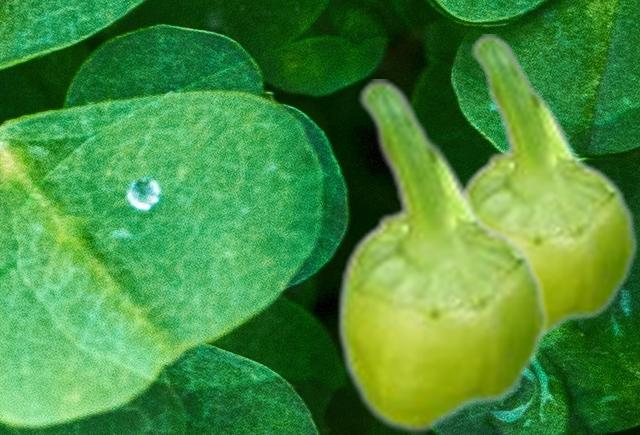bell_pepper: (335, 79, 549, 433), (462, 34, 638, 344)
